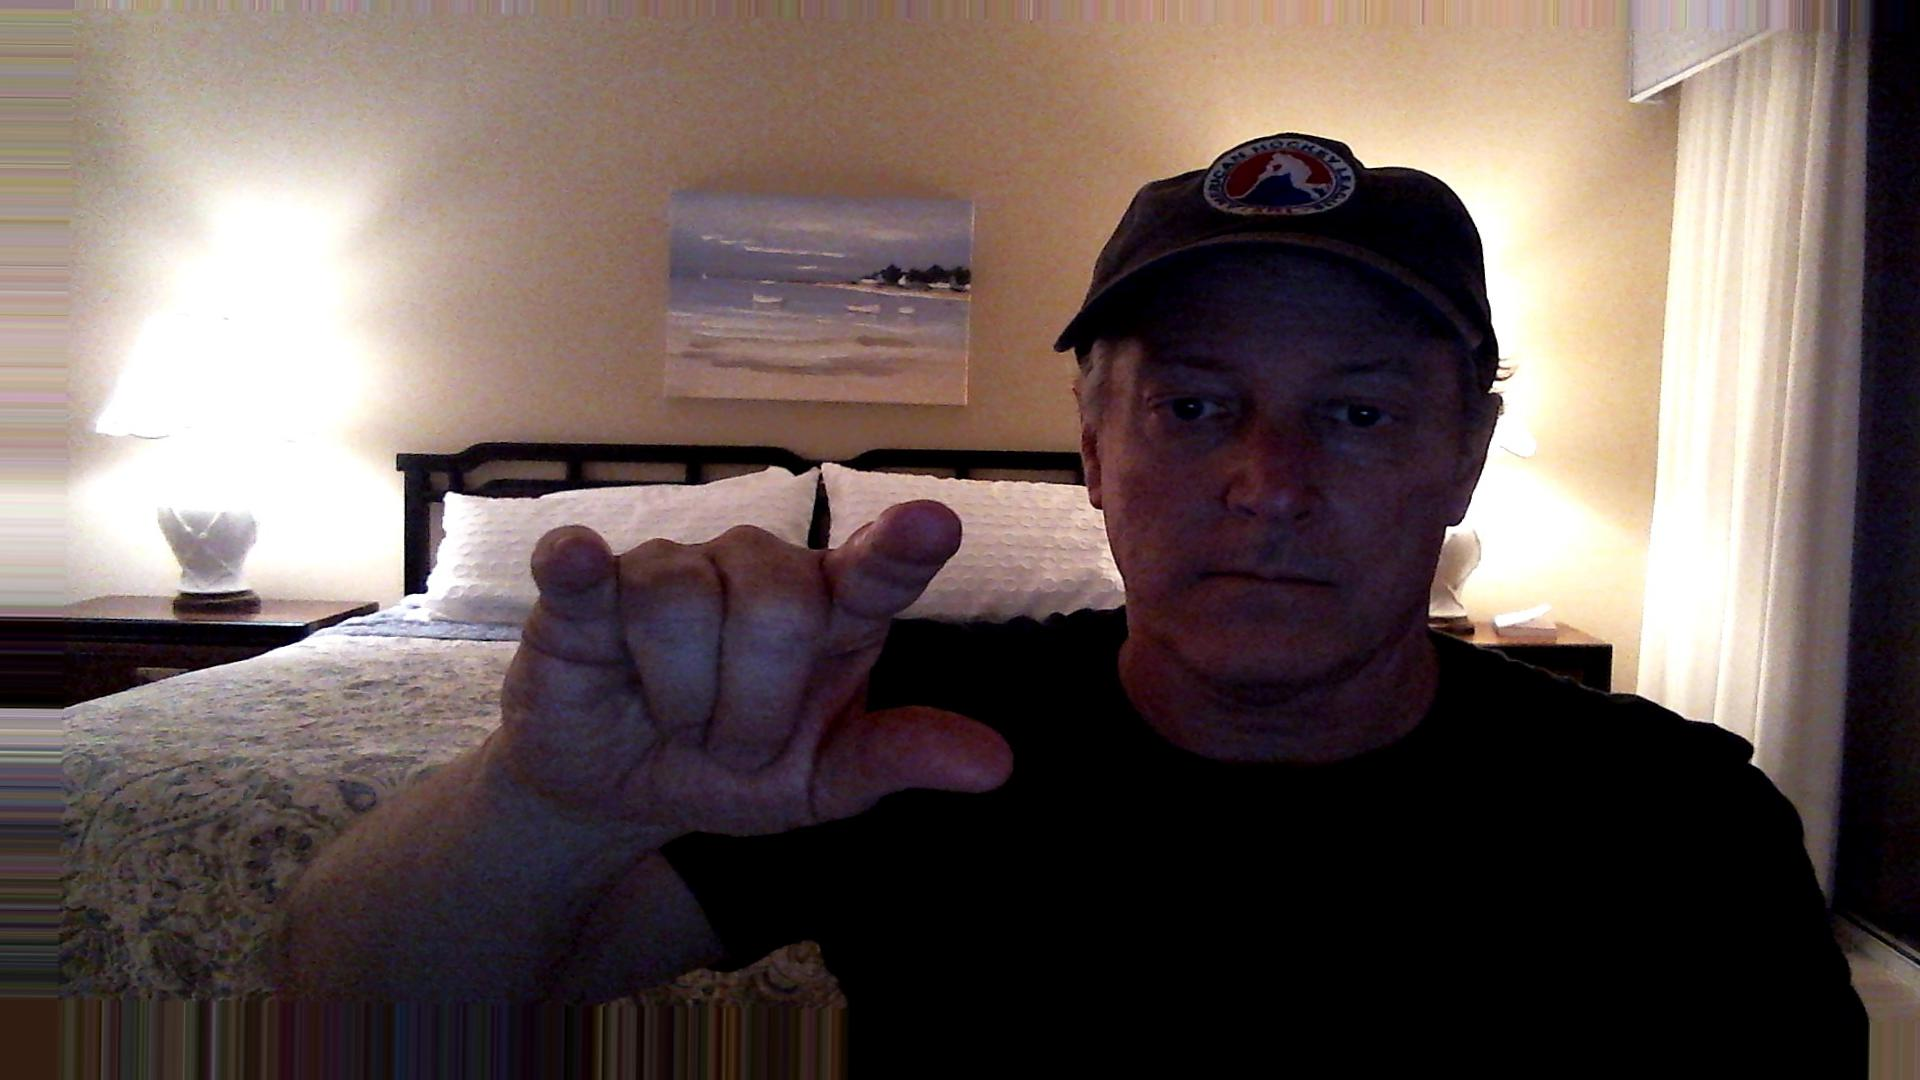I Love You: (493, 484, 1036, 847)
